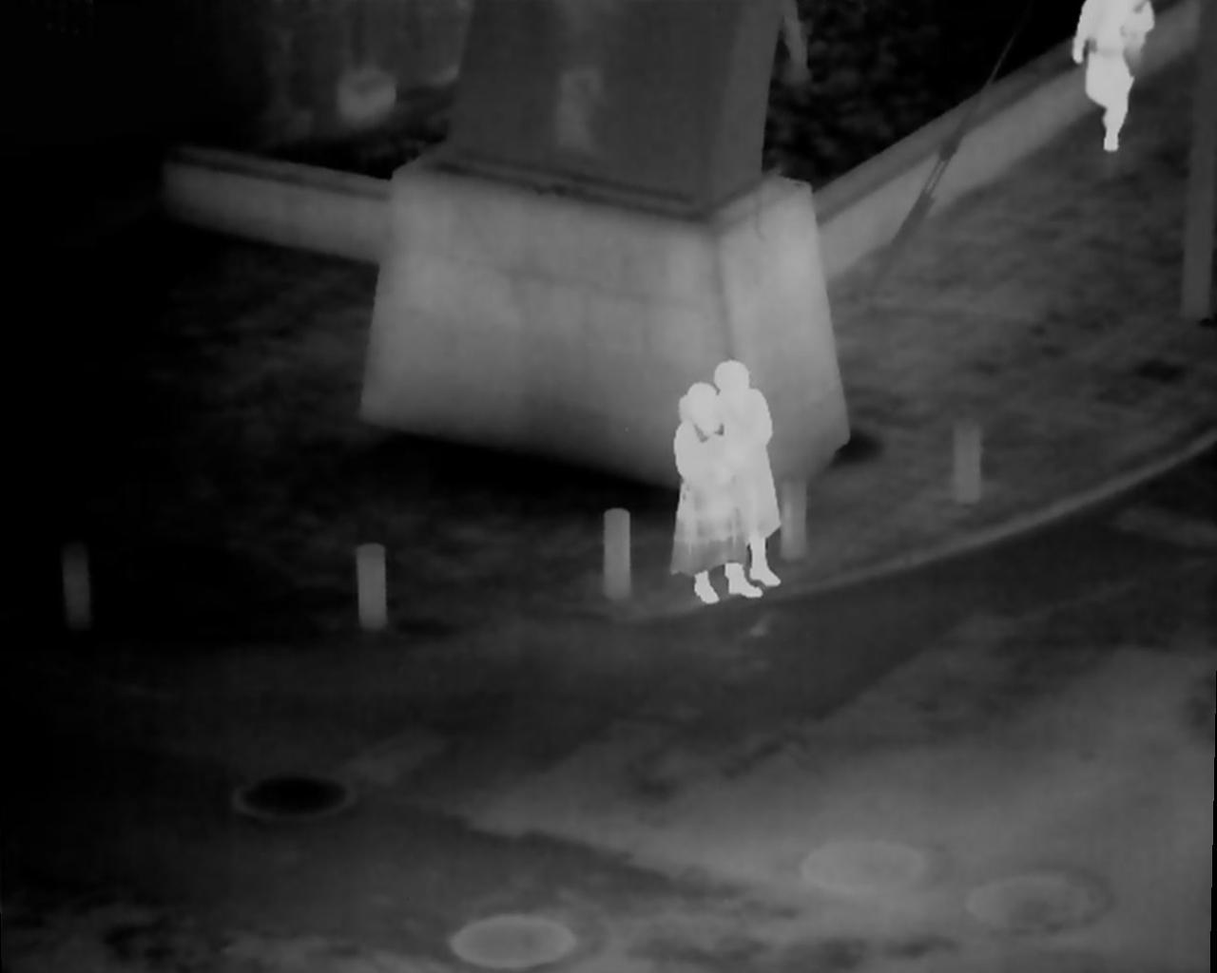person: (673, 380, 759, 604), (714, 362, 782, 589)
